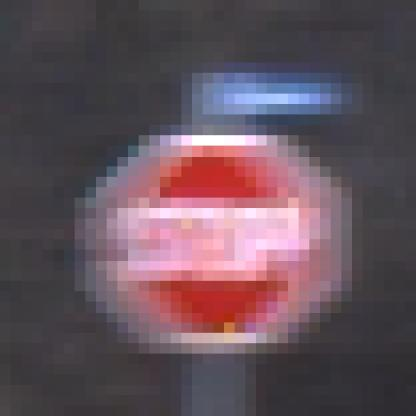Stop: (110, 144, 327, 336)
